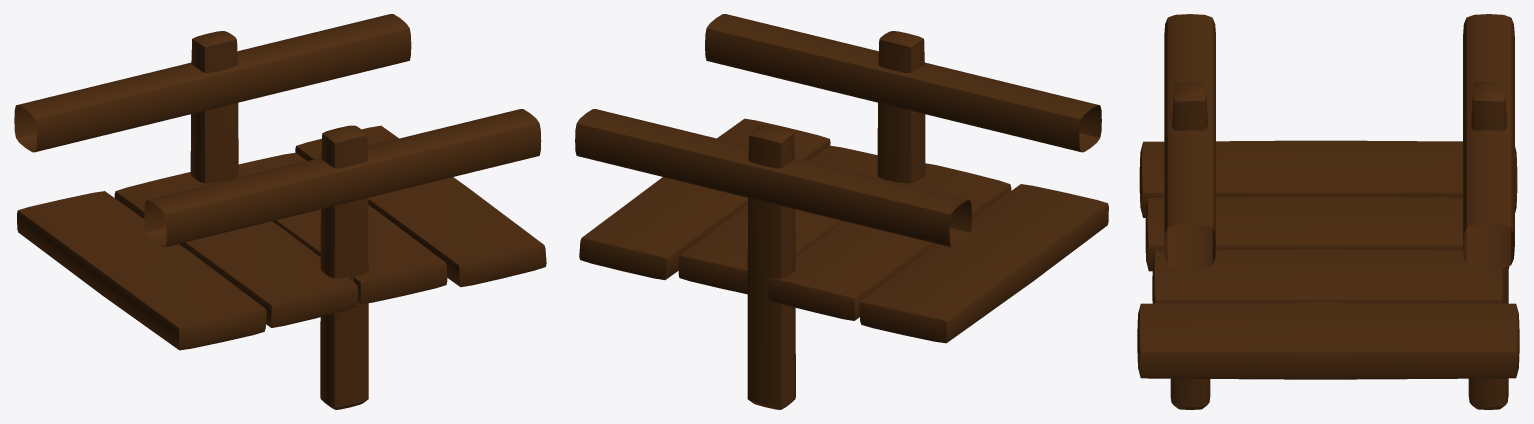
The model's file is Bridge_Modular_Center.fbx.
3 views of the same model, side by side, from view 1: azimuth 30°, elevation 25°; view 2: azimuth 150°, elevation 25°; view 3: azimuth 270°, elevation 25° (orthographic). The views are drawn at different scales.
Visible parts, largest first — view 1: Bridge_Modular_Center; view 2: Bridge_Modular_Center; view 3: Bridge_Modular_Center.
Part boxes in pixels (x1,y1,x2,y2): Bridge_Modular_Center: (14, 14, 546, 409); Bridge_Modular_Center: (575, 14, 1108, 409); Bridge_Modular_Center: (1137, 14, 1519, 409).
Size of the model in its own units: 300 by 209 by 231.
